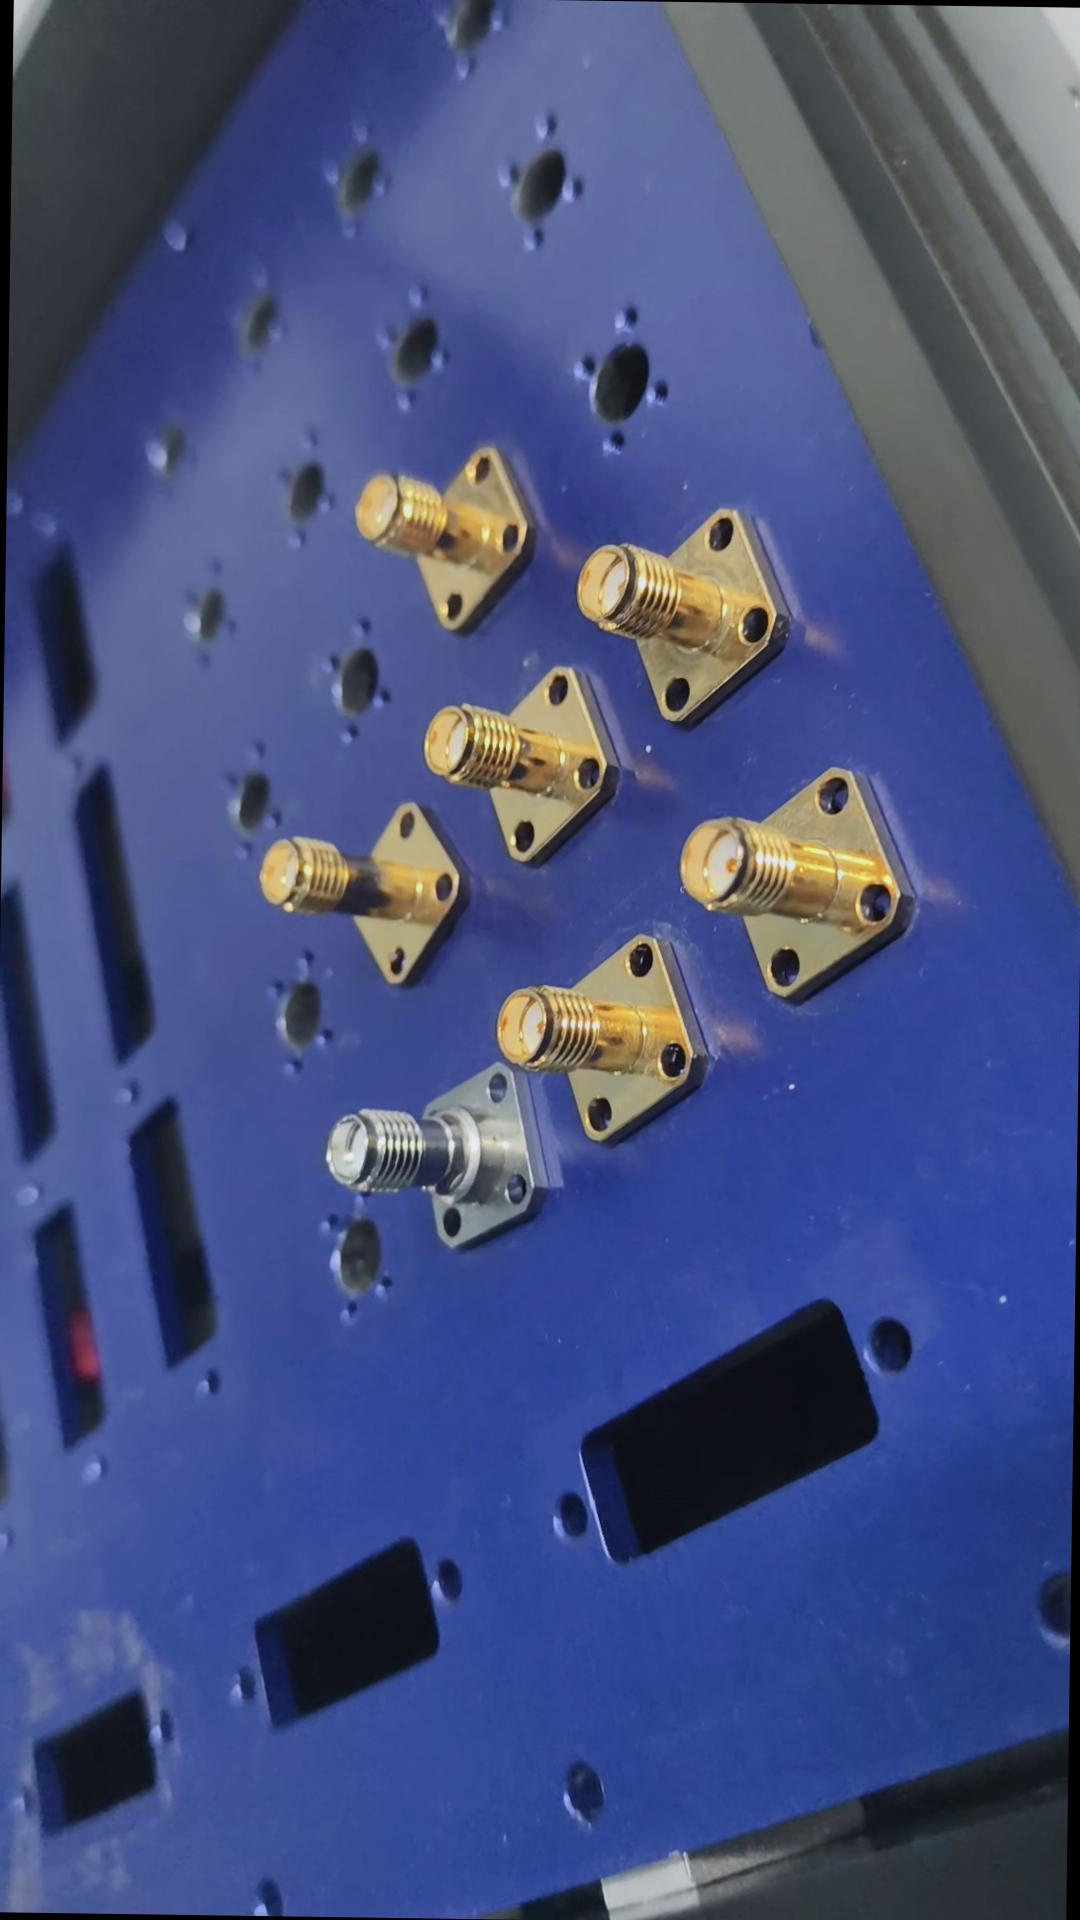SMA: (676, 764, 916, 1004), (576, 502, 789, 733), (316, 1042, 547, 1254), (492, 928, 702, 1139), (419, 651, 621, 862), (256, 789, 459, 984), (347, 436, 527, 637)
